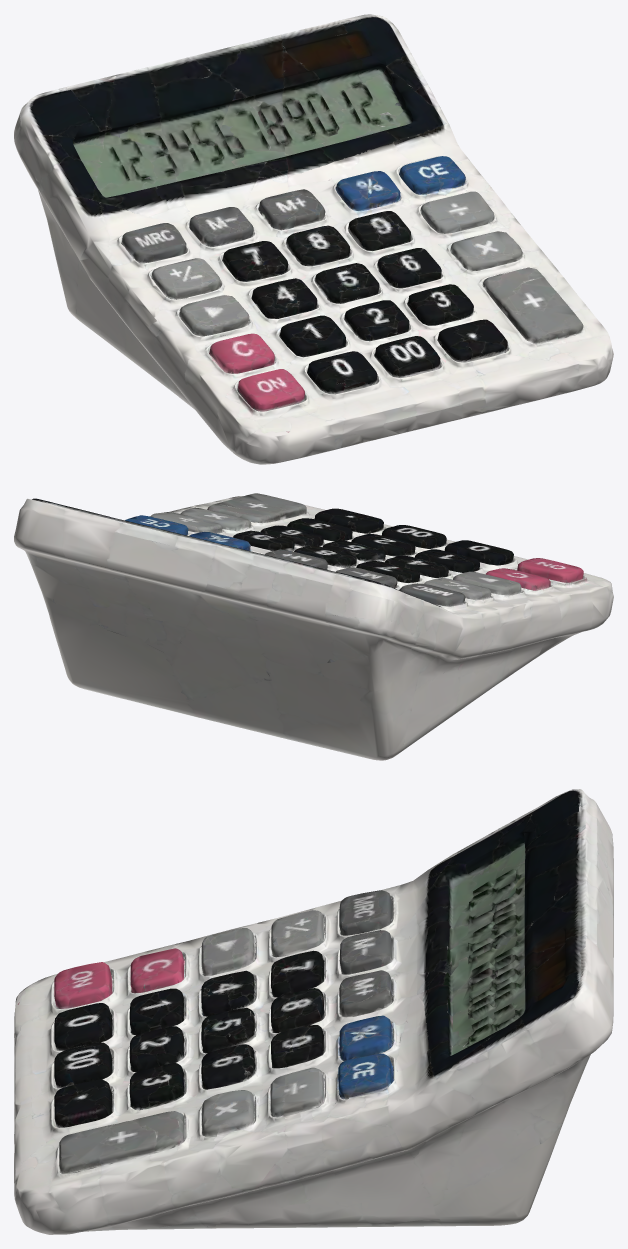
3 views of the same model, one above another, from view 1: azimuth 30°, elevation 25°; view 2: azimuth 150°, elevation 25°; view 3: azimuth 270°, elevation 25° (orthographic). The views are drawn at different scales.
Visible parts, largest first — view 1: node_id4; view 2: node_id4; view 3: node_id4.
Boxes of the visible parts, x1=… form: node_id4: x1=14, y1=14, x2=613, y2=464; node_id4: x1=14, y1=493, x2=613, y2=760; node_id4: x1=14, y1=789, x2=613, y2=1234.
Size of the model in its own units: 0.512 by 0.2722 by 0.5874.
1 material, 1 textured.
